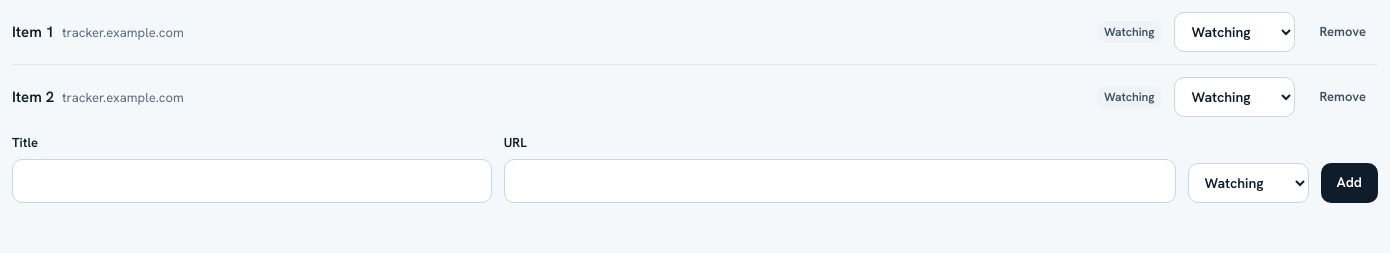
RoadmapLinks › restores a row whose removal failed
The image size is (1390, 253).
Click the button with aria-label "Remove Item 1": (1343, 32) left=1308, top=16, right=1378, bottom=48
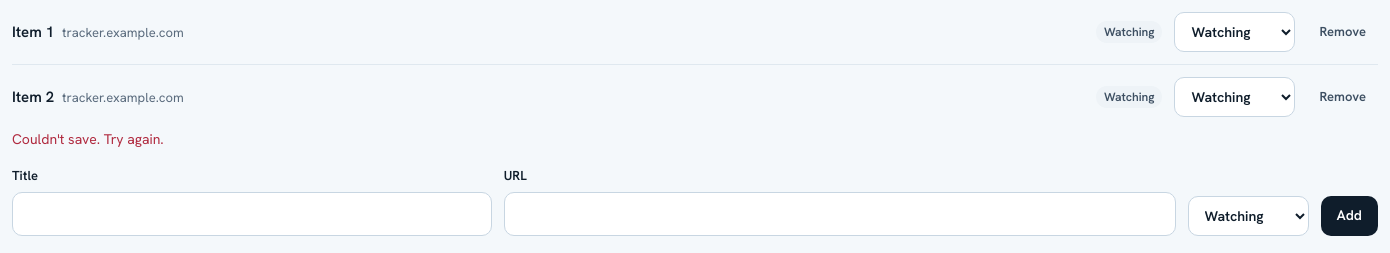
Expected: the number of list items is 2, left=12, top=12, right=1378, bottom=65; left=12, top=65, right=1378, bottom=117
Expected: the message reads "Couldn't save. Try again.", left=12, top=130, right=164, bottom=148
